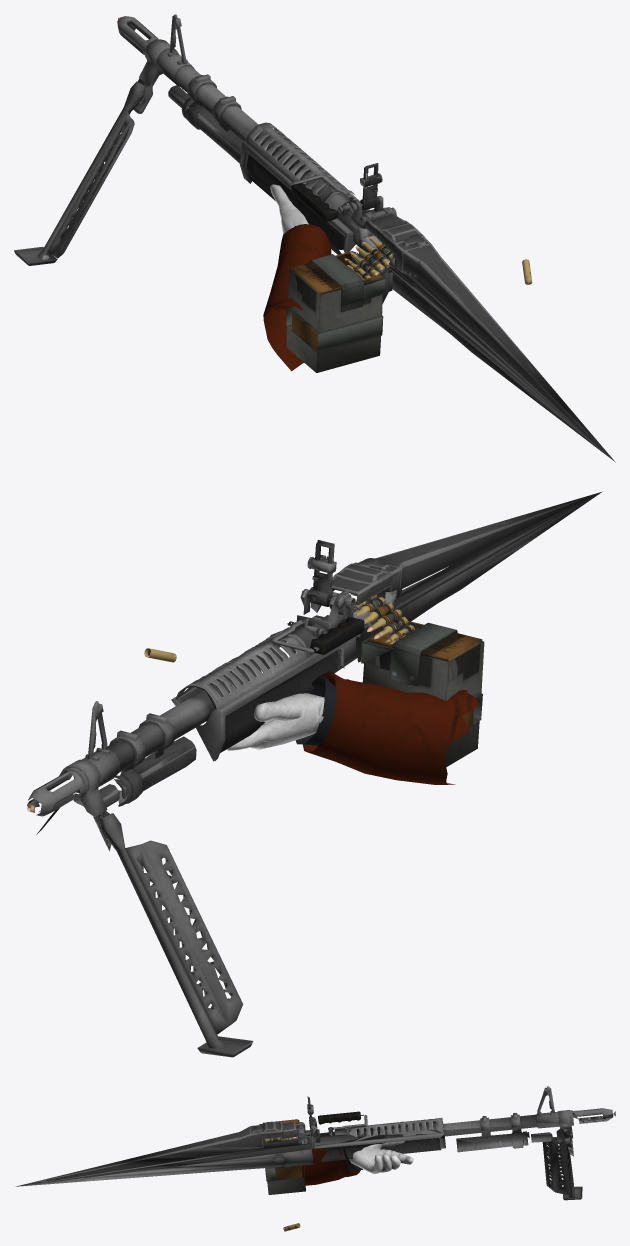
File: frame_15.obj
3 renders of one model, top to bottom at view 1: azimuth 30°, elevation 25°; view 2: azimuth 150°, elevation 25°; view 3: azimuth 270°, elevation 25°, orthographic. The views are drawn at different scales.
Parts seen in each view (by area): view 1: Mesh.005, PlayerModelMerged.001_PlayerModelMerged, Mesh.001; view 2: Mesh.005, PlayerModelMerged.001_PlayerModelMerged, Mesh.001; view 3: Mesh.005, PlayerModelMerged.001_PlayerModelMerged.
Boxes of the visible parts, x1,y1,x2,y2 form: Mesh.005: (14, 14, 615, 462); PlayerModelMerged.001_PlayerModelMerged: (263, 184, 331, 371); Mesh.001: (344, 237, 392, 278); Mesh.005: (27, 491, 602, 1057); PlayerModelMerged.001_PlayerModelMerged: (226, 670, 479, 784); Mesh.001: (355, 597, 414, 642); Mesh.005: (16, 1086, 613, 1200); PlayerModelMerged.001_PlayerModelMerged: (301, 1141, 413, 1185).
Size of the model in its own units: 0.8112 by 0.6121 by 2.26.
